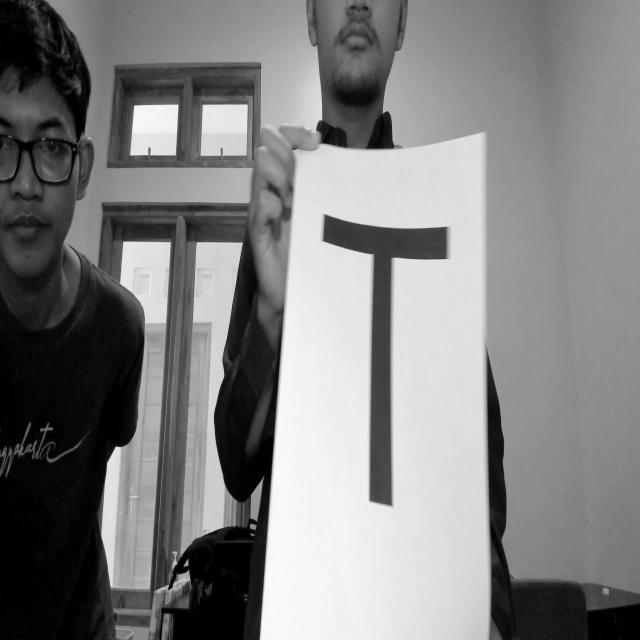t: (312, 206, 499, 567)
